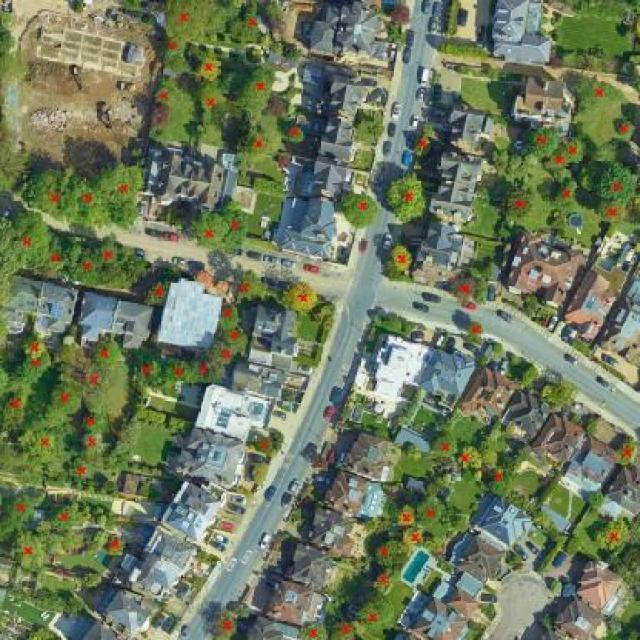tree: (59, 340, 126, 428), (567, 70, 625, 153), (0, 208, 57, 285), (228, 109, 290, 177), (17, 158, 72, 229), (58, 175, 118, 238), (158, 0, 231, 49), (381, 169, 437, 228), (0, 480, 51, 542), (235, 60, 287, 120), (13, 422, 72, 473), (335, 180, 382, 243), (584, 153, 640, 204), (42, 373, 88, 432), (190, 76, 236, 133), (351, 592, 405, 640), (98, 156, 150, 204), (511, 119, 567, 162), (0, 46, 35, 112), (187, 207, 235, 253), (6, 535, 57, 578), (108, 248, 157, 292), (124, 342, 168, 391), (590, 511, 635, 558), (279, 273, 328, 316), (444, 266, 490, 311), (0, 376, 32, 437), (85, 331, 130, 374), (152, 24, 193, 71), (589, 195, 637, 234), (222, 199, 253, 259), (499, 186, 541, 229), (10, 350, 52, 392), (200, 335, 238, 380), (229, 267, 275, 304), (542, 375, 581, 418), (229, 0, 262, 49), (63, 454, 103, 494), (205, 601, 246, 640), (407, 115, 441, 162), (150, 75, 188, 117), (90, 233, 133, 270), (365, 535, 410, 570), (104, 195, 145, 233), (481, 461, 522, 499), (72, 429, 114, 466), (416, 492, 452, 535), (71, 248, 109, 288), (551, 172, 582, 220), (384, 239, 418, 282), (159, 358, 202, 392), (195, 49, 231, 89), (207, 298, 245, 334), (366, 564, 405, 599), (426, 426, 460, 466), (73, 406, 115, 437), (189, 354, 226, 389), (45, 500, 79, 538), (140, 277, 178, 311), (42, 243, 73, 283), (562, 132, 593, 172), (612, 428, 640, 472), (451, 444, 487, 476), (216, 330, 253, 361), (0, 120, 26, 163), (611, 108, 637, 151), (17, 330, 55, 359), (278, 118, 311, 150), (247, 426, 278, 460), (292, 614, 332, 640), (461, 314, 488, 352), (398, 525, 434, 553), (389, 497, 420, 529), (541, 146, 568, 182), (249, 458, 273, 494), (102, 532, 130, 561), (518, 358, 541, 393), (323, 620, 362, 640), (585, 409, 605, 443), (87, 524, 110, 553), (0, 9, 17, 31)
